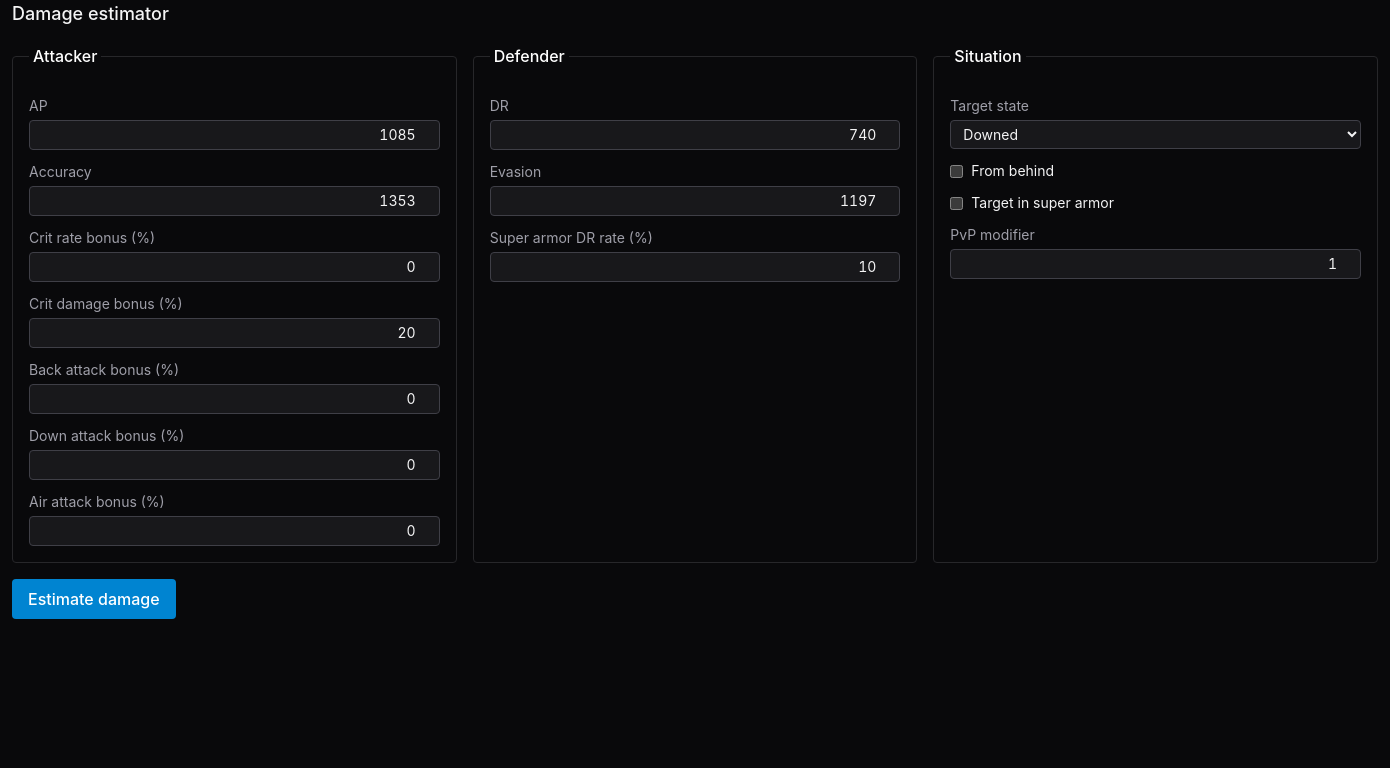
DamageEstimator › lists the warnings of the estimate
Click the button "Estimate damage".
click(94, 599)  # box [12, 579, 176, 619]
(page scrolled)
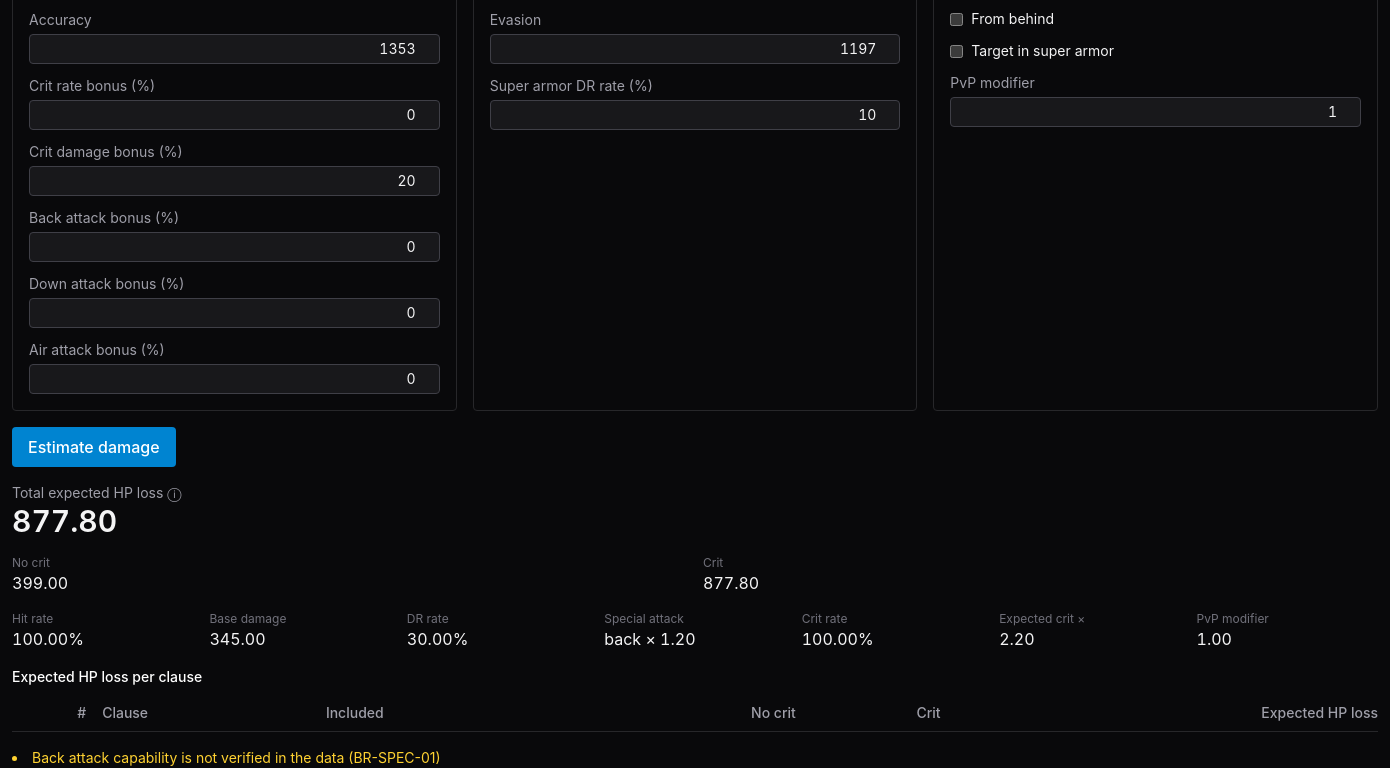
expect the list named "Warnings" reads "Back attack capability is not verified in the data (BR-SPEC-01)": met, box [32, 749, 441, 766]
